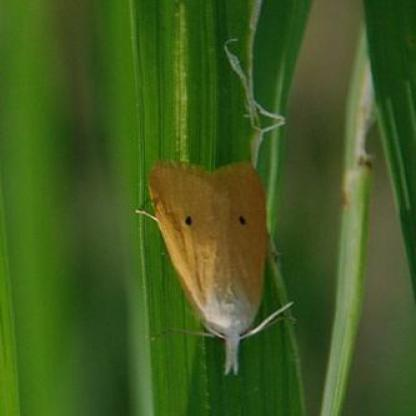stem-borer: (138, 161, 294, 376)
